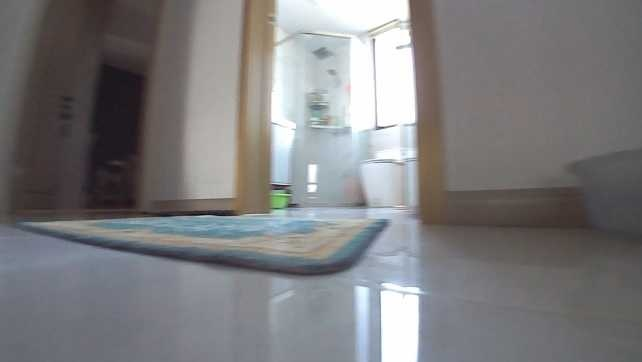blanket: (15, 211, 391, 277)
toilet: (358, 148, 405, 207)
